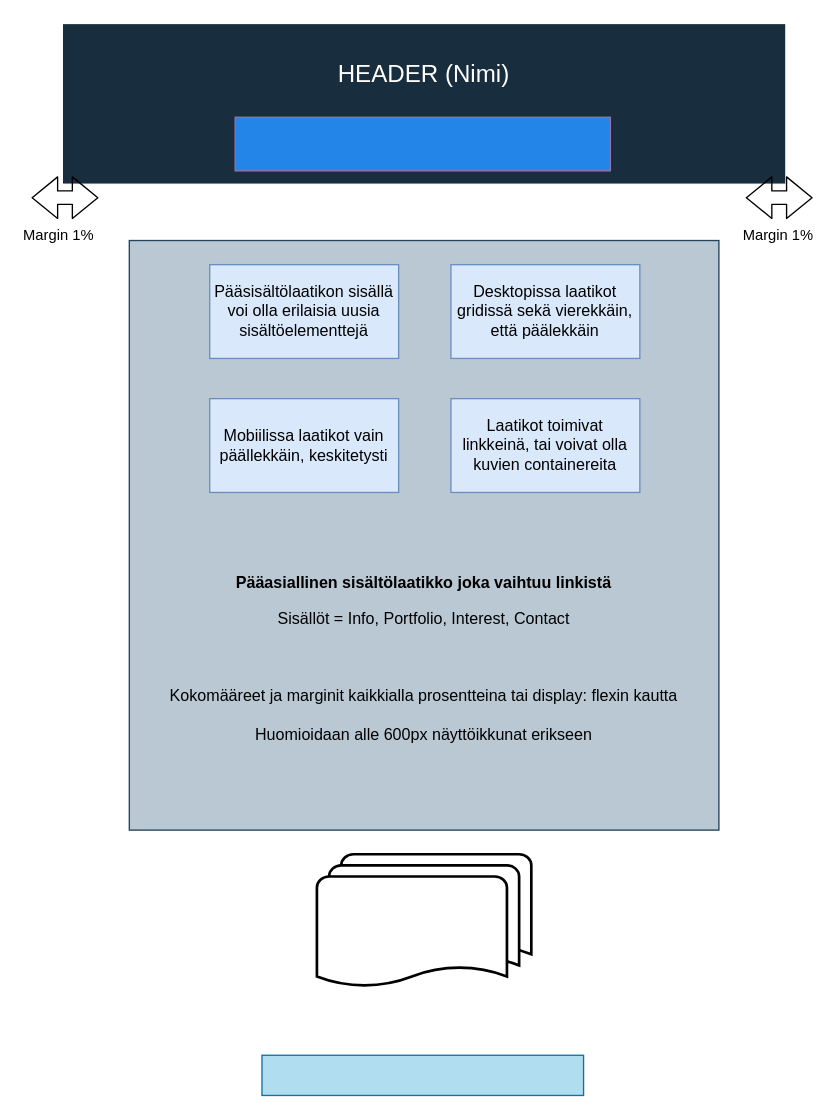
This 836x1119 diagram has some shape labels left out. Each missing label, with the centre of its shape:
Koko sivun taustalla iso kuva: the point at 423,920
LINKIT: INFO | PORTFOLIO | INTERESTS | CONTACT: the point at 422,143
Pienet footer-tiedot Linkki Contact-osioon: the point at 422,1074
